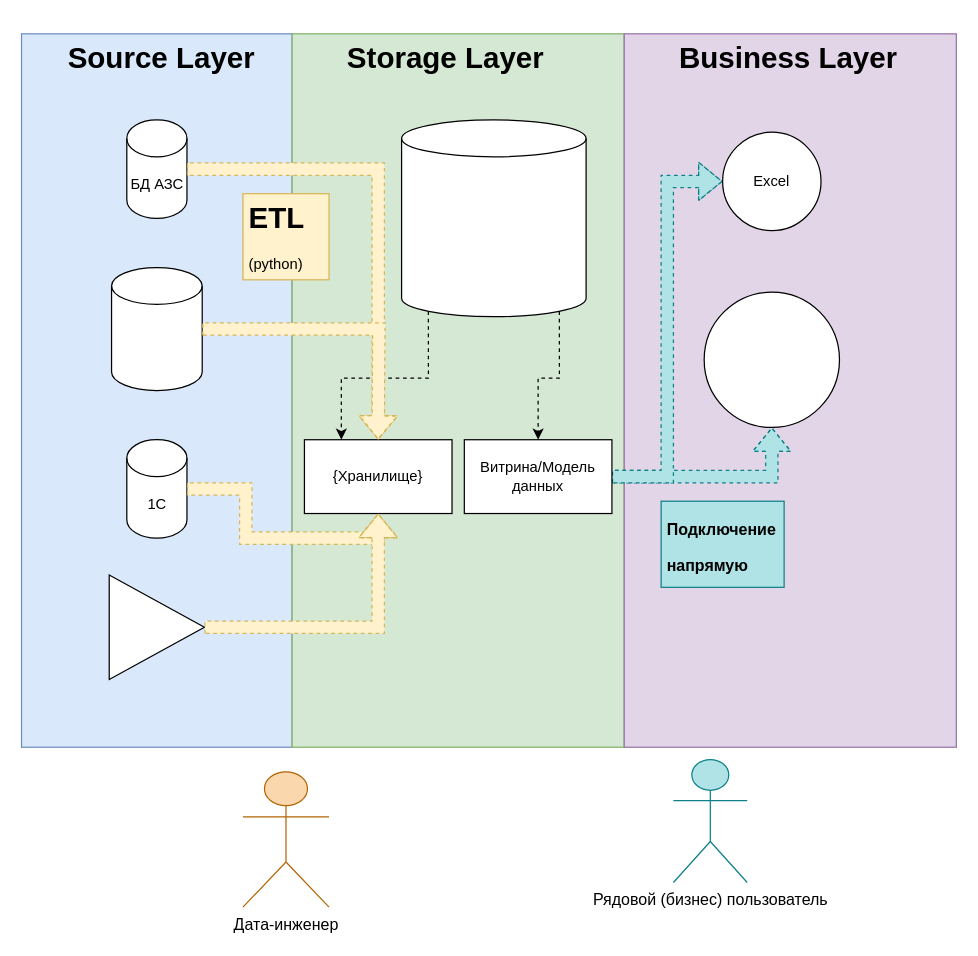
Image size: 978x956. Some labels were removed from this diagram. Here are the shapes that lost their labels. From the top down, the centre of each, then its label:
At point 493,218: "Data Warehouse".
At point 156,328: "БД Мобильное приложение".
At point 771,359: "BI-tool (Tableau, Power BI, Qlicksense)".
At point 156,627: "REST API".
